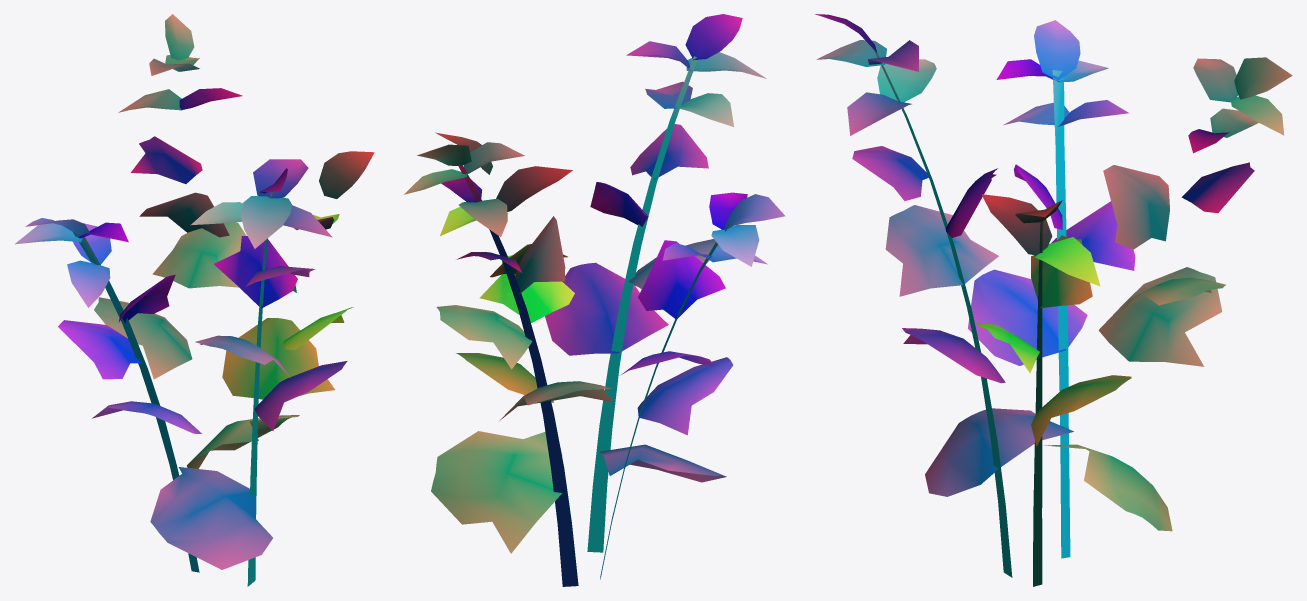
The model's file is Raspberry_wf0oefeja_High_wf0oefeja_VarA_LOD2.fbx.
The picture shows the model from 3 angles, left to right: view 1: azimuth 30°, elevation 25°; view 2: azimuth 150°, elevation 25°; view 3: azimuth 270°, elevation 25°; orthographic projection. The views are drawn at different scales.
Parts seen in each view (by area): view 1: _3wru_VarA_LOD3; view 2: _3wru_VarA_LOD3; view 3: _3wru_VarA_LOD3.
Boxes of the visible parts, bbox=[...] form: _3wru_VarA_LOD3: bbox=[15, 14, 374, 586]; _3wru_VarA_LOD3: bbox=[404, 14, 785, 586]; _3wru_VarA_LOD3: bbox=[815, 14, 1292, 586].
Bounding box in the file's own units: 29.38 × 38.7 × 31.26.
